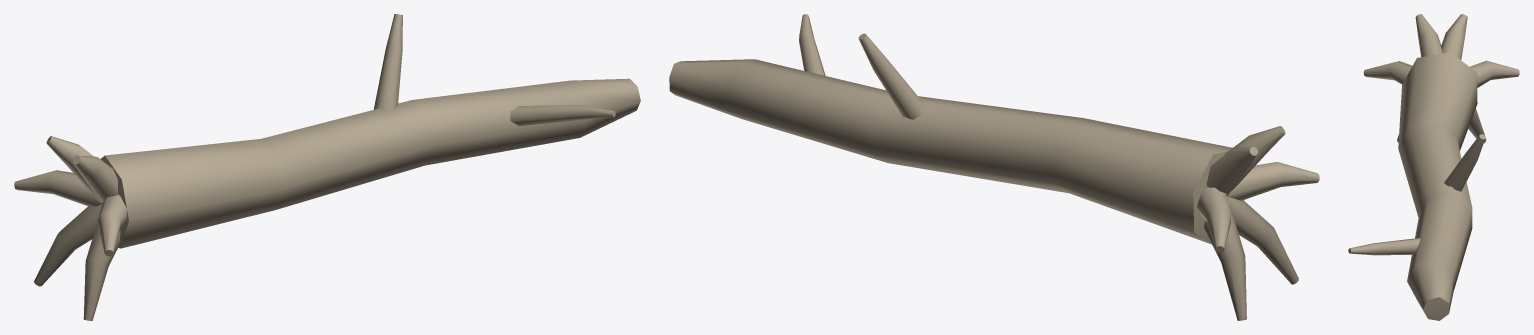
Rendered from driftwood-a.glb.
3 renders of one model, left to right at view 1: azimuth 30°, elevation 25°; view 2: azimuth 150°, elevation 25°; view 3: azimuth 270°, elevation 25°, orthographic. The views are drawn at different scales.
Visible parts, largest first — view 1: driftwood-a; view 2: driftwood-a; view 3: driftwood-a.
Part boxes in pixels (x1,y1,x2,y2): driftwood-a: [14, 14, 640, 320]; driftwood-a: [669, 14, 1319, 320]; driftwood-a: [1348, 14, 1519, 320].
Size of the model in its own units: 2.12 by 0.6572 by 0.6705.
